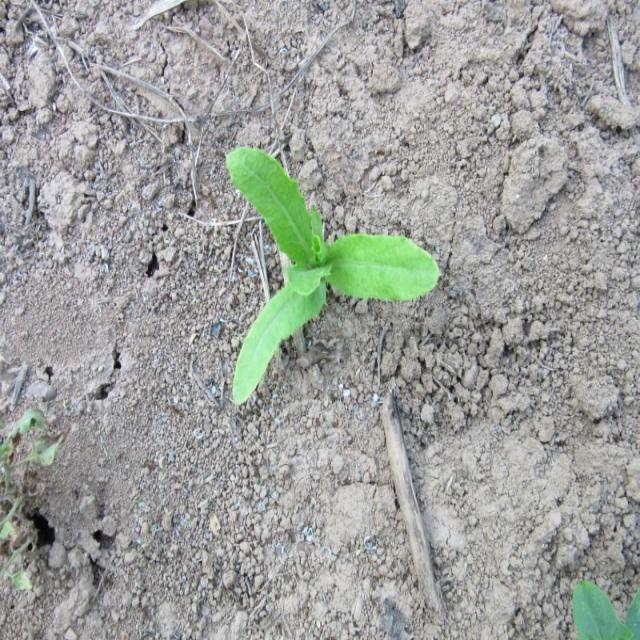cs: (226, 144, 441, 408)
